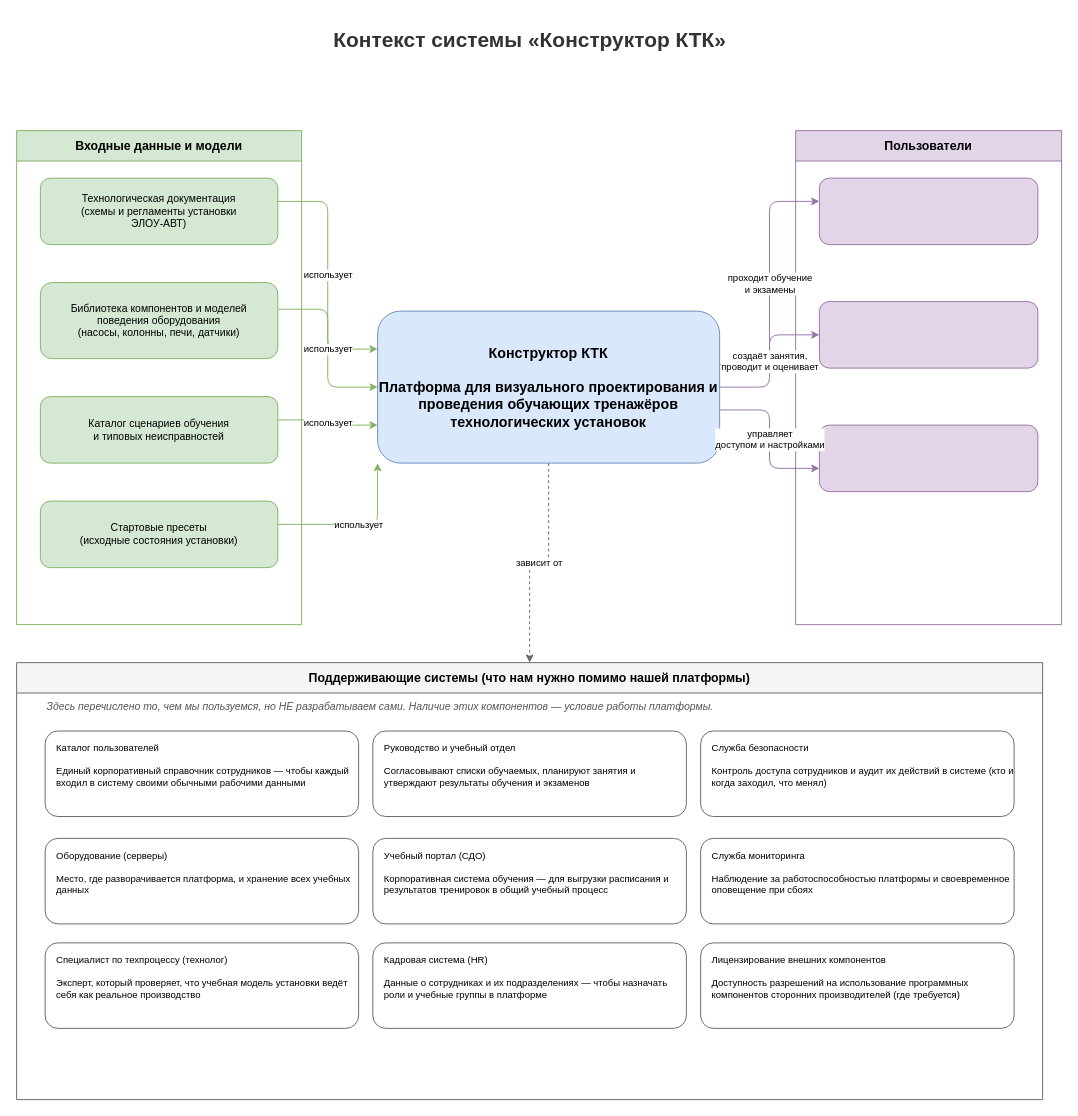
The diagram is 1078 pixels wide and 1116 high, and some of its shapes have lost their labels. The shapes that lost their labels are listed below. From the top down, each one's centre as x and y in pixels, then its label:
the point at 928,211: Обучаемый (оператор)
the point at 928,334: Инструктор
the point at 928,458: Администратор
